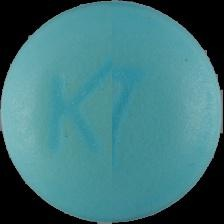42291-722: (0, 0, 224, 224)
